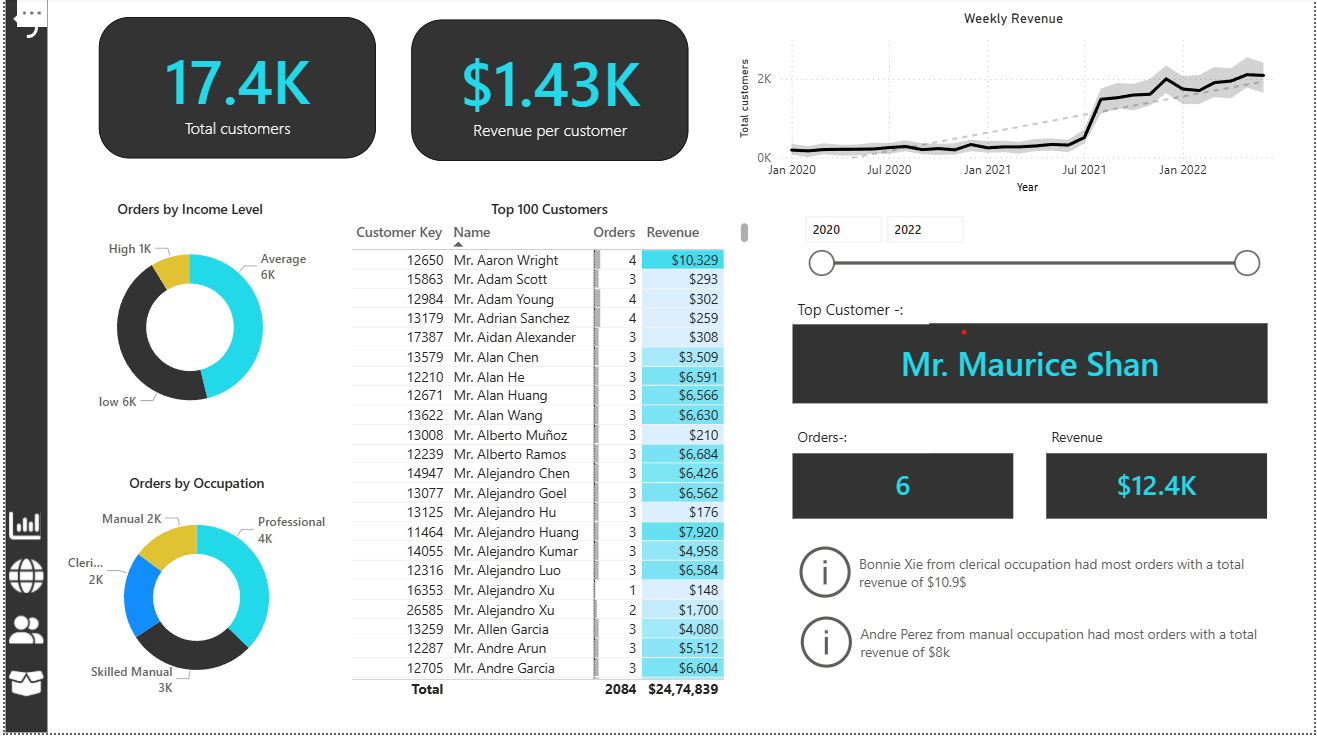

This screenshot's page, from the dashboard's own definition file:
{"tool":"powerbi","page":{"name":"Customer lookup","canvas":[1280,720],"ordinal":2},"visuals":[{"type":"donutChart","title":"Orders by Income Level","fields":{"Category":["Customer Lookup.Income Level"],"Y":["Measure Table.Total orders"]},"box":[52.9,198.6,257.1,232.9],"z":0},{"type":"textbox","box":[1018.8,415.8,133.8,30],"z":1000,"group":"g1"},{"type":"card","fields":{"Values":["Measure Table.Total orders"]},"box":[770,445.8,216.2,63.8],"z":1000},{"type":"donutChart","title":"Orders by Occupation","fields":{"Y":["Measure Table.Total orders"],"Category":["Customer Lookup.Occupation"]},"box":[52.9,465.7,270,225.7],"z":2000},{"type":"textbox","box":[770,415.8,133.8,30],"z":3000},{"type":"tableEx","title":"Top 100 Customers","fields":{"Values":["Customer Lookup.CustomerKey","Customer Lookup.full name","Measure Table.Total orders","Measure Table.Revenue"]},"box":[332.9,198.6,400,492.9],"z":4000},{"type":"card","fields":{"Values":["Min(Customer Lookup.full name)"]},"box":[770,319.6,465,78.8],"z":5000},{"type":"textbox","box":[770,289.6,133.8,30],"z":6000},{"type":"group","id":"g1","title":"Group 1","box":[1018.8,415.8,133.8,30],"z":7000},{"type":"card","fields":{"Values":["Measure Table.Revenue"]},"box":[1018.8,445.8,216.2,63.8],"z":8000},{"type":"slicer","title":"  Year-:","fields":{"Values":["Calendar Lookup.Year"]},"box":[770,204.3,465.7,85.7],"z":9000},{"type":"shape","box":[0,0,41.4,720],"z":10000},{"type":"card","fields":{"Values":["Measure Table.Total customers"]},"box":[91.4,20,271.4,138.6],"z":11000},{"type":"card","fields":{"Values":["Measure Table.Revenue per customer"]},"box":[397.1,21.4,271.4,138.6],"z":12000},{"type":"actionButton","box":[2.5,8.8,41.2,36.2],"z":13000},{"type":"actionButton","box":[770,531.2,485,63.8],"z":14000},{"type":"actionButton","box":[771.2,598.8,485,63.8],"z":15000},{"type":"lineChart","title":"Weekly Revenue","fields":{"Y":["Measure Table.Total customers"],"Category":["Calendar Lookup.Date hirerarchy.Start of Month"]},"box":[712.5,13.8,547.5,185],"z":16000},{"type":"actionButton","box":[0,497.8,41.8,39],"z":17000},{"type":"actionButton","box":[0,526.6,41.8,77.9],"z":18000},{"type":"actionButton","box":[0,580,41.8,77.9],"z":19000},{"type":"actionButton","box":[0,631.9,41.8,77.9],"z":20000}]}

Visuals, with their boxes on the page's 1280x720 design canvas (x1, y1, x2, y2). These are canvas units, not pixel positions in the 1317x741 screenshot, which may show the page scaled, cropped or inside an application window:
"Orders by Income Level" donutChart: bbox(53, 199, 310, 432)
textbox: bbox(1019, 416, 1153, 446)
card - Measure Table.Total orders: bbox(770, 446, 986, 510)
"Orders by Occupation" donutChart: bbox(53, 466, 323, 691)
textbox: bbox(770, 416, 904, 446)
"Top 100 Customers" tableEx: bbox(333, 199, 733, 692)
card - Min(Customer Lookup.full name): bbox(770, 320, 1235, 398)
textbox: bbox(770, 290, 904, 320)
"Group 1" group: bbox(1019, 416, 1153, 446)
card - Measure Table.Revenue: bbox(1019, 446, 1235, 510)
"  Year-:" slicer: bbox(770, 204, 1236, 290)
shape: bbox(0, 0, 41, 720)
card - Measure Table.Total customers: bbox(91, 20, 363, 159)
card - Measure Table.Revenue per customer: bbox(397, 21, 668, 160)
actionButton: bbox(2, 9, 44, 45)
actionButton: bbox(770, 531, 1255, 595)
actionButton: bbox(771, 599, 1256, 663)
"Weekly Revenue" lineChart: bbox(712, 14, 1260, 199)
actionButton: bbox(0, 498, 42, 537)
actionButton: bbox(0, 527, 42, 604)
actionButton: bbox(0, 580, 42, 658)
actionButton: bbox(0, 632, 42, 710)
